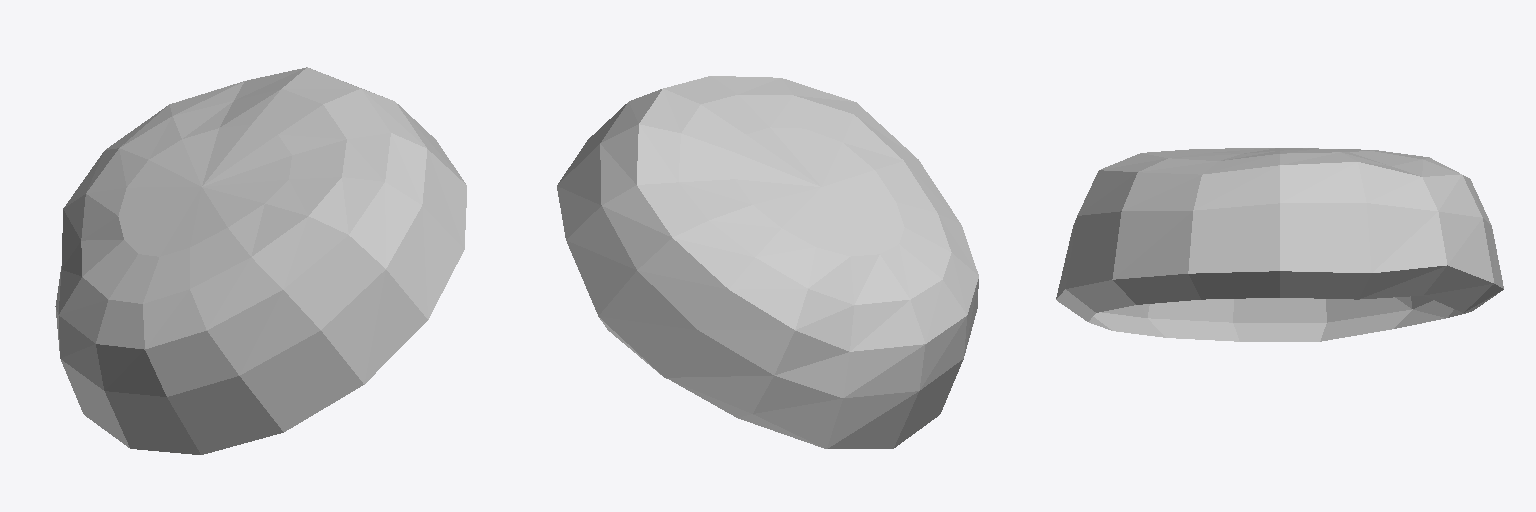
The model's file is shroomTop2.obj.
3 renders of one model, left to right at view 1: azimuth 30°, elevation 25°; view 2: azimuth 150°, elevation 25°; view 3: azimuth 270°, elevation 25°, orthographic.
Visible parts, largest first — view 1: shroomTop2; view 2: shroomTop2; view 3: shroomTop2.
Boxes of the visible parts, box(x1,y1,x2,y2) form: shroomTop2: box(55, 67, 466, 454); shroomTop2: box(557, 76, 978, 448); shroomTop2: box(1056, 148, 1503, 341).
Bounding box in the file's own units: 14.74 × 11.11 × 15.92.